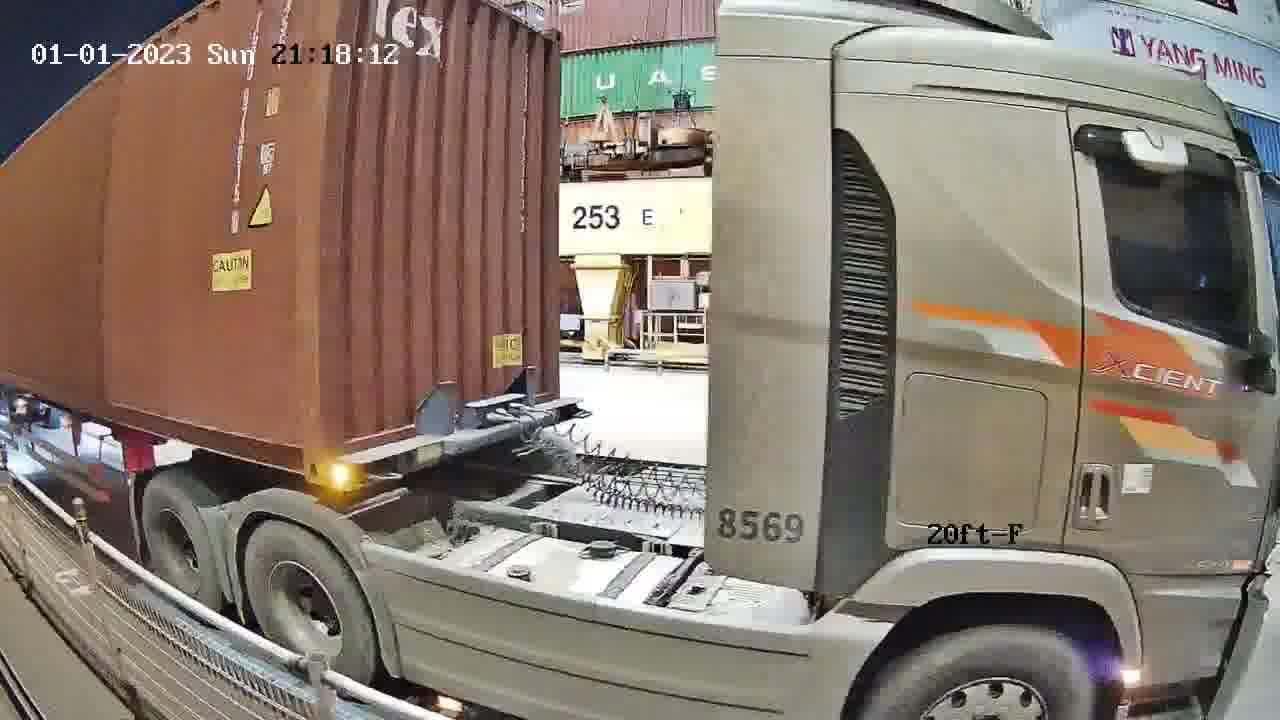Chassis: (330, 395, 587, 488)
Hole_R: (273, 422, 329, 486)
Tire: (244, 523, 376, 682), (140, 487, 223, 610)
